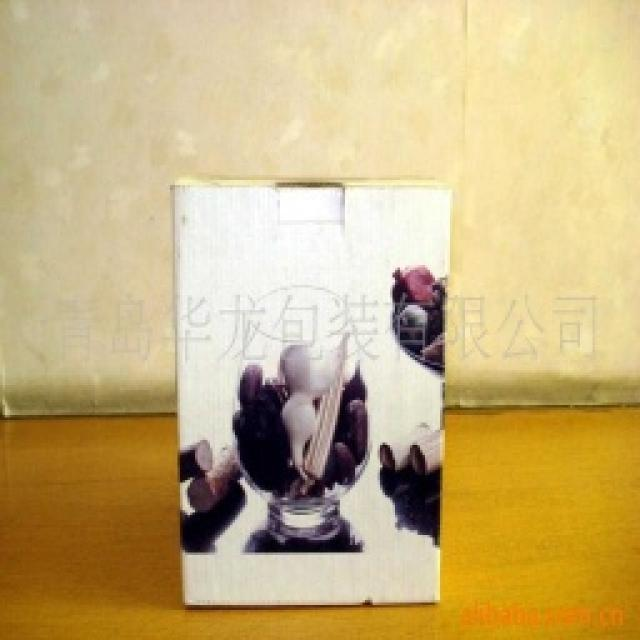box: (167, 166, 445, 605)
